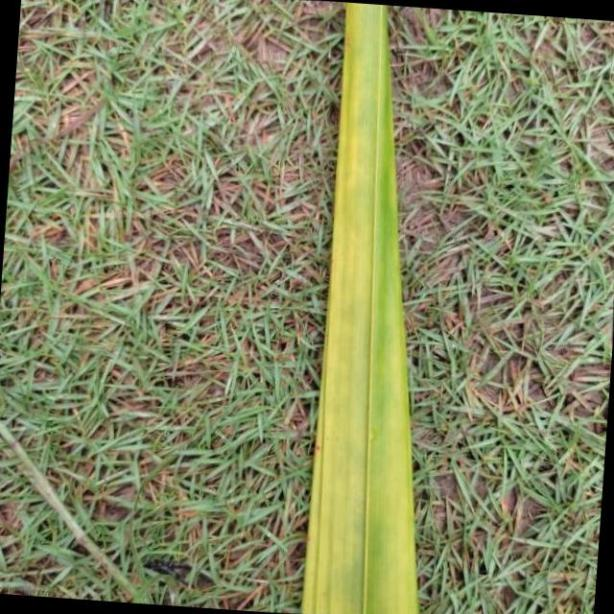nitrogen: (301, 0, 422, 614)
